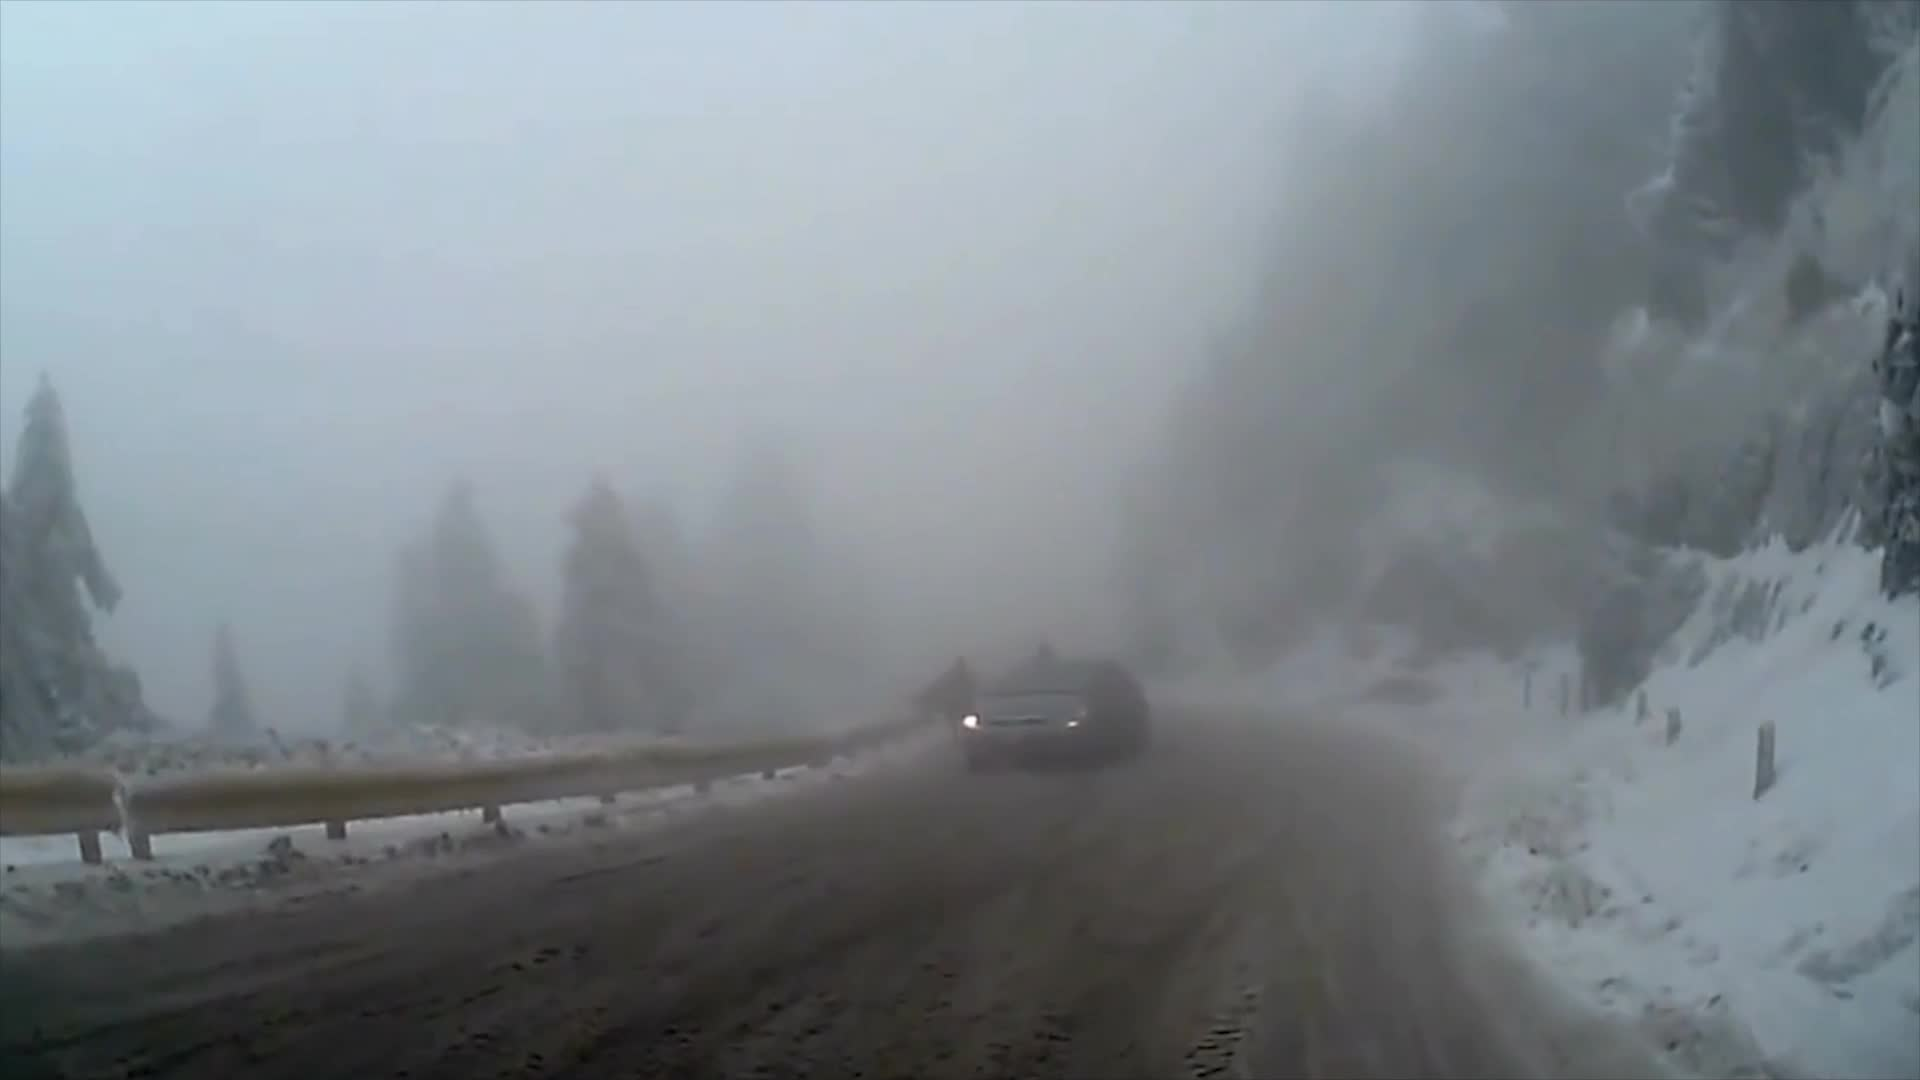vehicle: (959, 657, 1153, 774)
